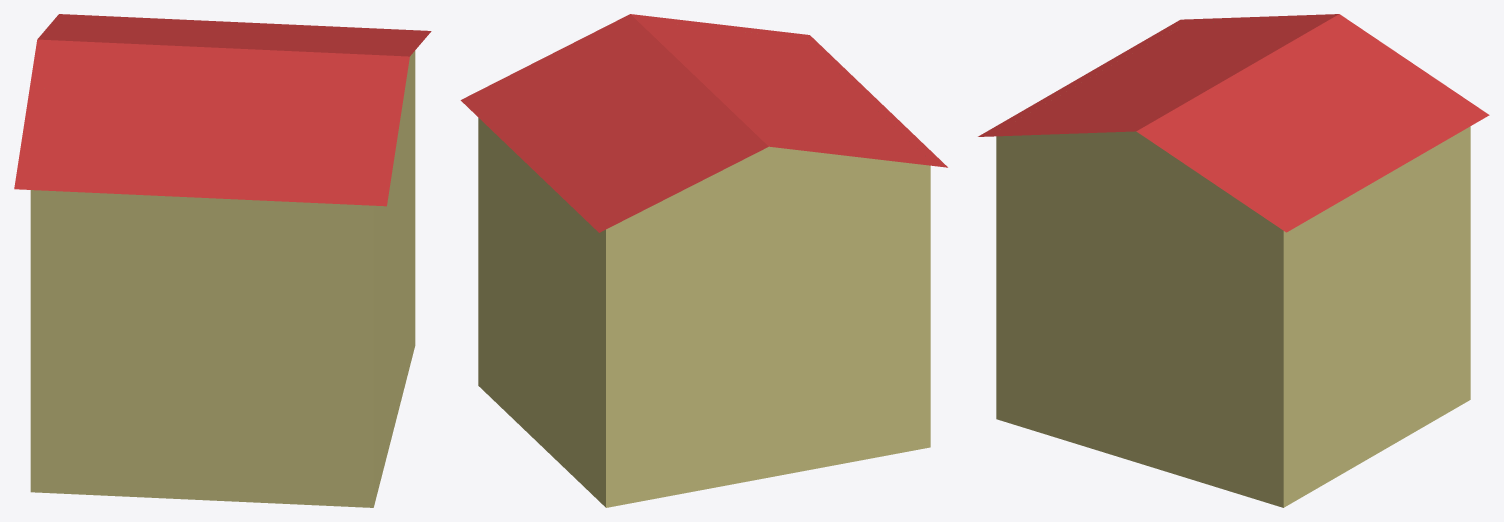
3 renders of one model, left to right at view 1: azimuth 30°, elevation 25°; view 2: azimuth 150°, elevation 25°; view 3: azimuth 270°, elevation 25°, orthographic. The views are drawn at different scales.
Size of the model in its own units: 9.22 by 9.37 by 6.83.
